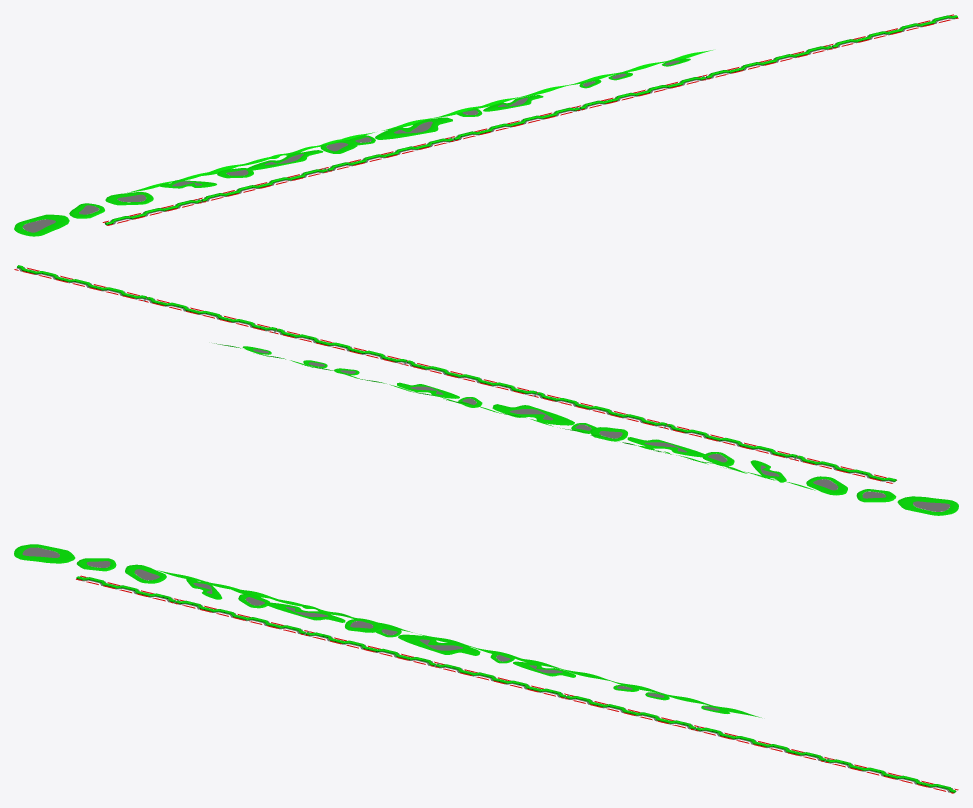
File: landscape.fbx
3 views of the same model, one above another, from view 1: azimuth 30°, elevation 25°; view 2: azimuth 150°, elevation 25°; view 3: azimuth 330°, elevation 25° (orthographic). The views are drawn at different scales.
Parts seen in each view (by area): view 1: bushes, grass, group11_polySurface70370, group17_polySurface70376, group18_polySurface70375, group12_polySurface70370; view 2: bushes, group11_polySurface70370, group17_polySurface70376, grass, group18_polySurface70375, group12_polySurface70370; view 3: bushes, grass, group11_polySurface70370, group17_polySurface70376, group18_polySurface70375, group12_polySurface70370.
Boxes of the visible parts, box(x1,y1,x2,y2) form: bushes: box(102, 14, 958, 225); grass: box(127, 50, 712, 192); group11_polySurface70370: box(14, 214, 69, 236); group17_polySurface70376: box(375, 117, 452, 139); group18_polySurface70375: box(247, 150, 323, 170); group12_polySurface70370: box(105, 192, 153, 205); bushes: box(14, 265, 896, 483); group11_polySurface70370: box(897, 496, 958, 515); group17_polySurface70376: box(492, 404, 574, 425); grass: box(214, 343, 815, 490); group18_polySurface70375: box(627, 437, 705, 457); group12_polySurface70370: box(806, 476, 847, 495); bushes: box(76, 575, 958, 793); grass: box(157, 570, 761, 717); group11_polySurface70370: box(14, 544, 75, 563); group17_polySurface70376: box(398, 634, 480, 655); group18_polySurface70375: box(267, 602, 345, 622); group12_polySurface70370: box(125, 564, 166, 583).
Size of the model in its own units: 604219 by 1506 by 35420.
